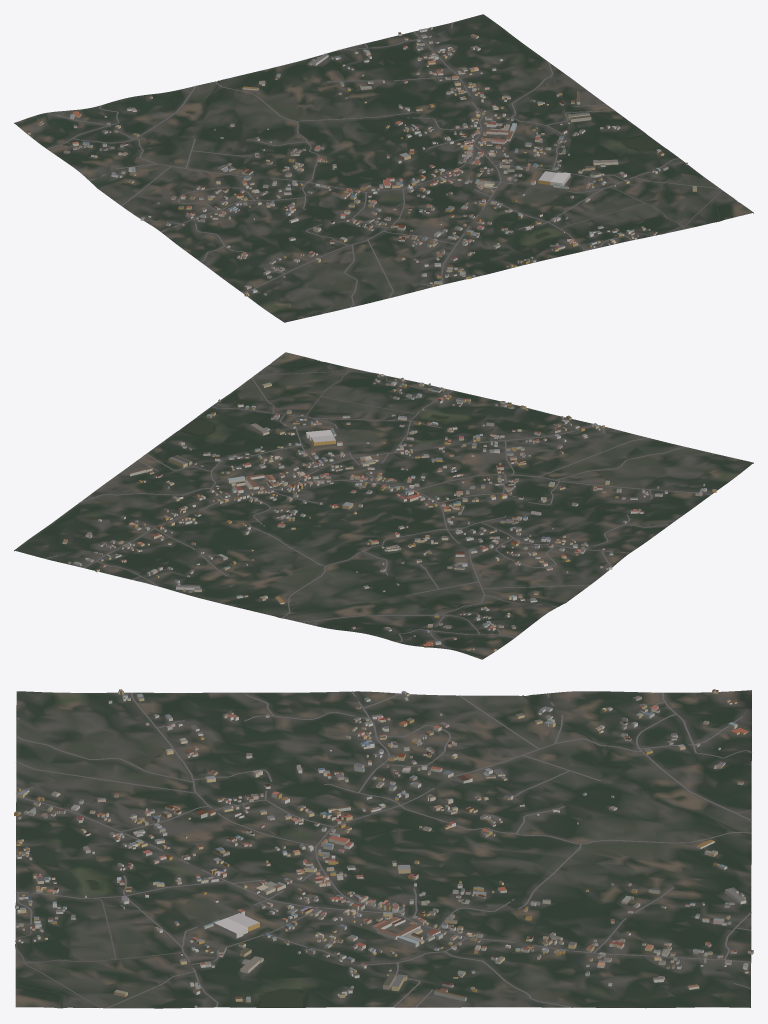
3 renders of one model, top to bottom at view 1: azimuth 30°, elevation 25°; view 2: azimuth 150°, elevation 25°; view 3: azimuth 270°, elevation 25°, orthographic. The views are drawn at different scales.
Visible parts, largest first — view 1: ground, buildings, roads, water; view 2: ground, buildings, roads, water; view 3: ground, buildings, roads, water.
Boxes of the visible parts, left/top/right/bottom form: ground: left=14, top=14, right=753, bottom=322; buildings: left=27, top=27, right=696, bottom=296; roads: left=47, top=22, right=722, bottom=313; water: left=98, top=80, right=736, bottom=238; ground: left=14, top=352, right=753, bottom=659; buildings: left=62, top=374, right=716, bottom=651; roads: left=44, top=370, right=713, bottom=647; water: left=180, top=360, right=566, bottom=617; ground: left=15, top=690, right=751, bottom=1008; buildings: left=14, top=689, right=753, bottom=1007; roads: left=15, top=691, right=751, bottom=1008; water: left=16, top=695, right=751, bottom=1007.
Size of the model in its own units: 1407 by 32 by 1410.
